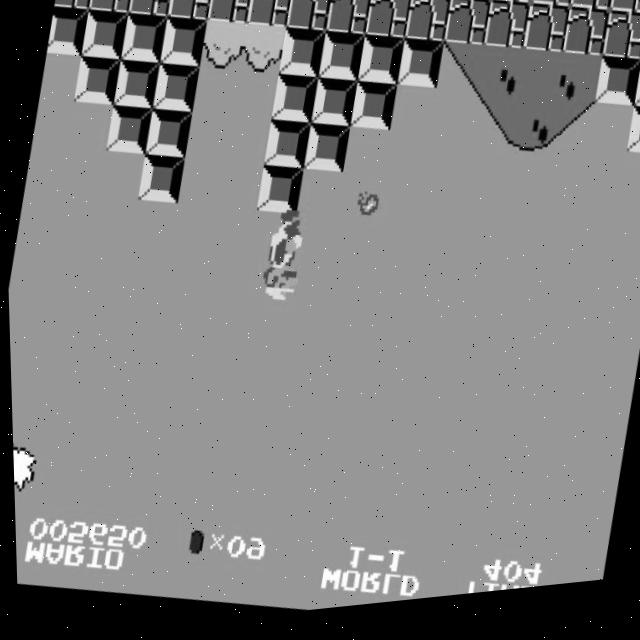17- undestructible_block: (442, 2, 492, 59), (482, 7, 532, 64), (521, 11, 571, 68), (561, 15, 611, 72), (403, 0, 453, 55), (363, 0, 413, 50), (324, 0, 374, 46), (600, 20, 640, 76), (284, 0, 335, 41), (245, 0, 295, 37), (205, 0, 255, 32), (166, 0, 216, 27), (569, 0, 614, 27), (127, 0, 177, 24), (607, 0, 640, 32), (529, 0, 575, 22), (87, 0, 137, 19), (490, 0, 535, 18), (54, 0, 97, 15), (450, 0, 496, 14), (411, 0, 456, 9), (371, 0, 417, 5)
4- fire_mario: (249, 211, 312, 316)
5- fireball: (353, 197, 379, 228)
9- hard_block: (79, 8, 130, 65), (135, 154, 186, 211), (158, 17, 209, 74), (253, 167, 304, 224), (261, 122, 312, 178), (72, 54, 122, 111), (111, 58, 161, 115), (119, 13, 169, 70), (151, 62, 201, 119), (269, 76, 319, 133), (277, 31, 327, 88), (309, 80, 359, 137), (316, 35, 366, 92), (348, 84, 398, 141), (356, 39, 406, 96), (395, 43, 445, 100), (104, 104, 154, 160), (143, 109, 193, 165), (301, 126, 351, 182), (592, 66, 640, 123), (45, 5, 89, 60), (624, 118, 640, 172), (631, 73, 640, 127)
